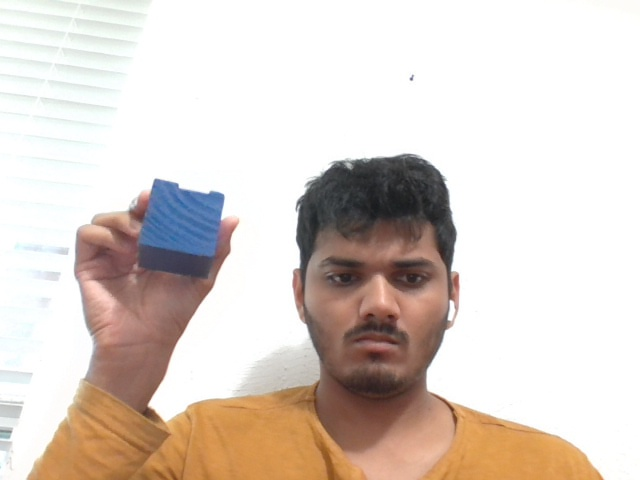BlueBlock: (136, 179, 223, 278)
